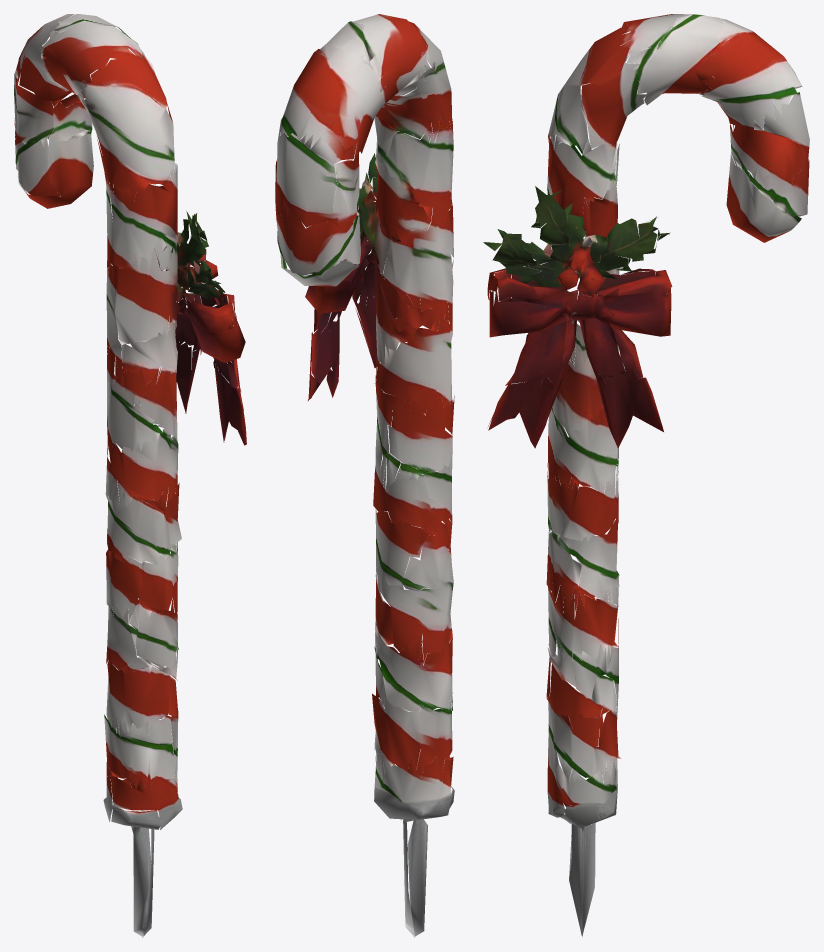
Rendered from lt_candycane.glb.
3 views of the same model, side by side, from view 1: azimuth 30°, elevation 25°; view 2: azimuth 150°, elevation 25°; view 3: azimuth 270°, elevation 25° (orthographic). The views are drawn at different scales.
Parts seen in each view (by area): view 1: tripo_node_be692815-39db-4585-937a-18f3c7447a00; view 2: tripo_node_be692815-39db-4585-937a-18f3c7447a00; view 3: tripo_node_be692815-39db-4585-937a-18f3c7447a00.
Part boxes in pixels (x1=…): tripo_node_be692815-39db-4585-937a-18f3c7447a00: x1=14, y1=14, x2=246, y2=937; tripo_node_be692815-39db-4585-937a-18f3c7447a00: x1=275, y1=14, x2=454, y2=937; tripo_node_be692815-39db-4585-937a-18f3c7447a00: x1=483, y1=14, x2=809, y2=936.
Bounding box in the file's own units: 0.1251 × 0.9991 × 0.3215.
Materials: 1 (1 with a texture image).
